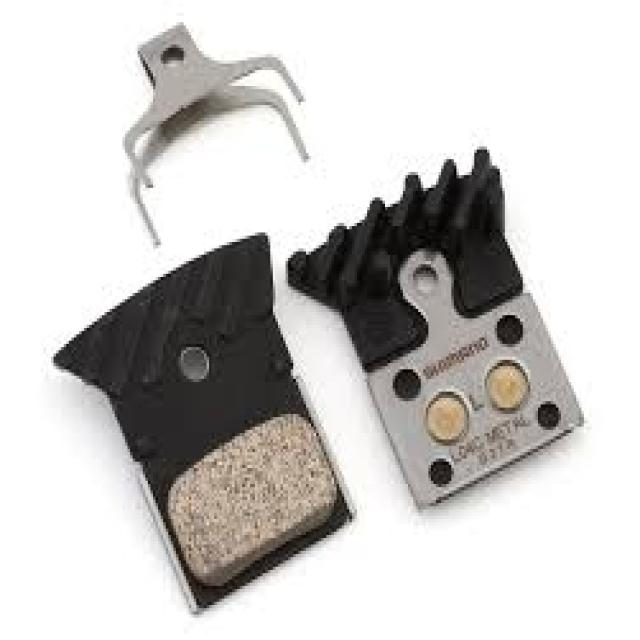brake_pad: (61, 221, 282, 605), (398, 220, 590, 516)
